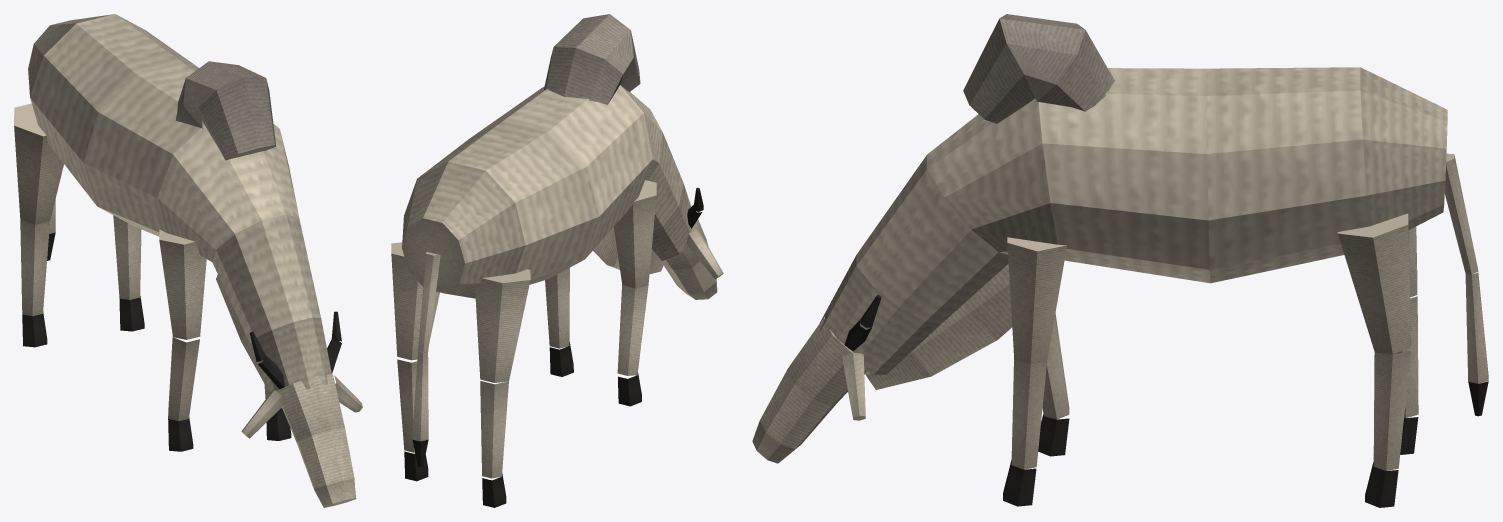
Rendered from cow.glb.
3 views of the same model, side by side, from view 1: azimuth 30°, elevation 25°; view 2: azimuth 150°, elevation 25°; view 3: azimuth 270°, elevation 25° (orthographic). The views are drawn at different scales.
Visible parts, largest first — view 1: cow; view 2: cow; view 3: cow.
Boxes of the visible parts, box(x1,y1,x2,y2) form: cow: box(14, 14, 362, 507); cow: box(391, 14, 723, 507); cow: box(752, 14, 1488, 507).
Bounding box in the file's own units: 0.64 × 1.54 × 2.24.
Materials: 1 (1 with a texture image).
